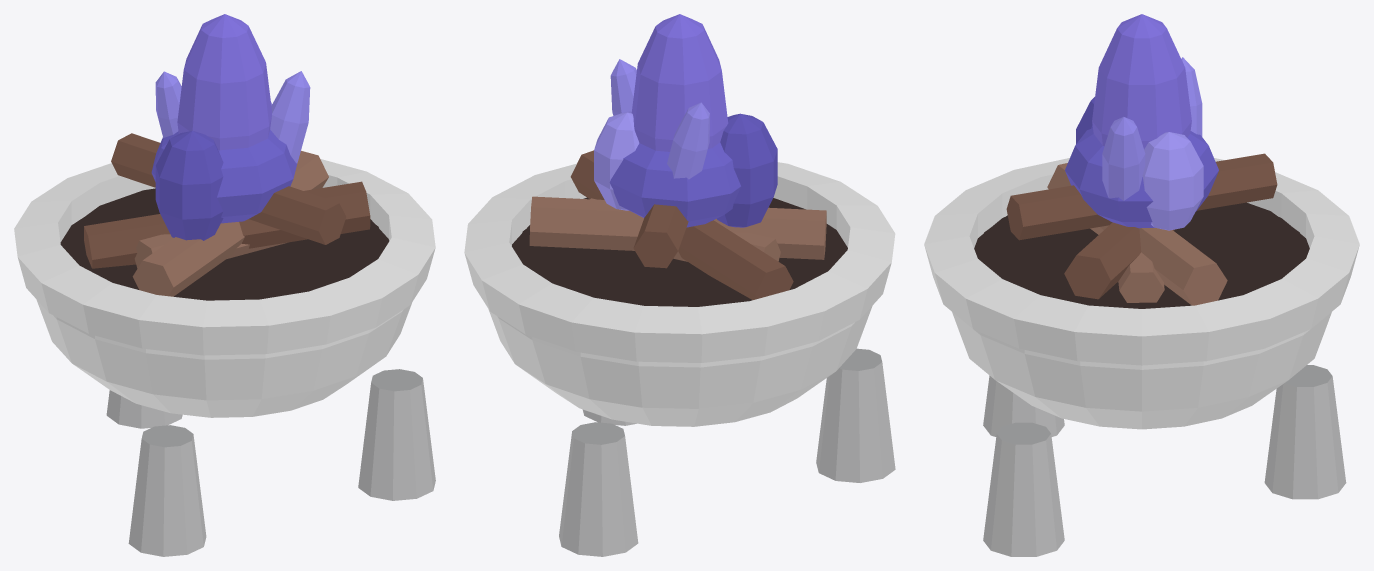
Rendered from Building_DarklightBrazier.glb.
3 renders of one model, left to right at view 1: azimuth 30°, elevation 25°; view 2: azimuth 150°, elevation 25°; view 3: azimuth 270°, elevation 25°, orthographic. The views are drawn at different scales.
Visible parts, largest first — view 1: DarklightBrazier; view 2: DarklightBrazier; view 3: DarklightBrazier.
Boxes of the visible parts, x1,y1,x2,y2 form: DarklightBrazier: [14, 14, 435, 556]; DarklightBrazier: [464, 14, 895, 556]; DarklightBrazier: [924, 14, 1359, 556].
Bounding box in the file's own units: 0.96 × 1.14 × 0.96.
1 material, 1 textured.
